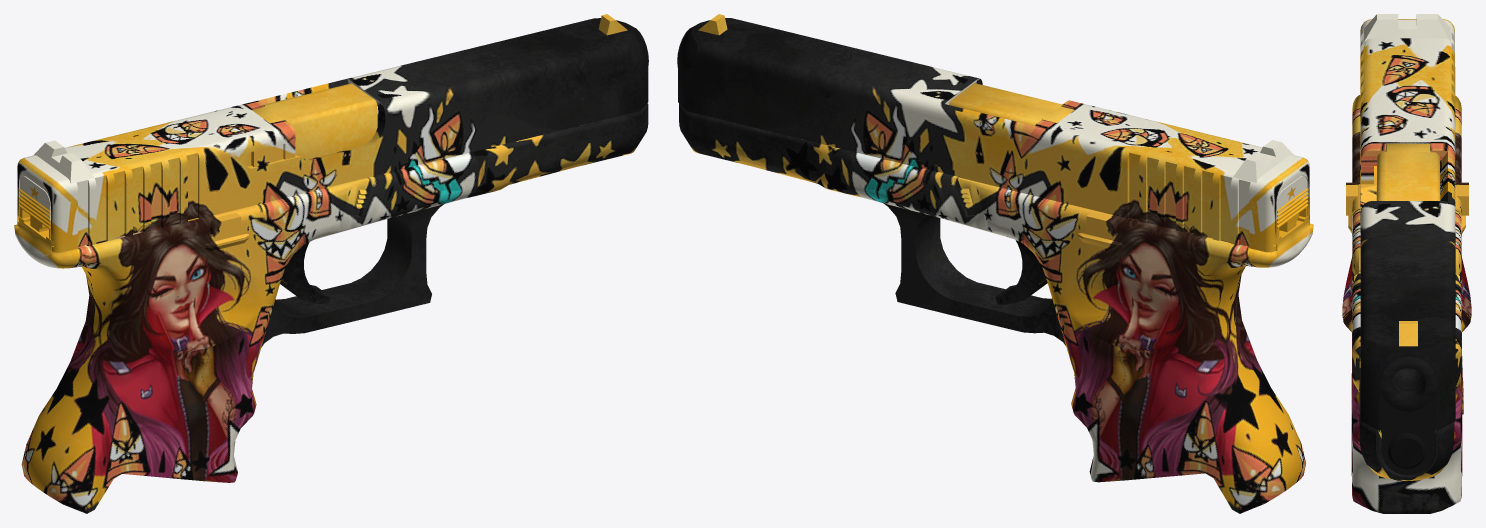
The model's file is w_combatpistol_warmaiden.glb.
3 renders of one model, left to right at view 1: azimuth 30°, elevation 25°; view 2: azimuth 150°, elevation 25°; view 3: azimuth 270°, elevation 25°, orthographic. The views are drawn at different scales.
Parts seen in each view (by area): view 1: Gun_Root; view 2: Gun_Root; view 3: Gun_Root.
Boxes of the visible parts, x1,y1,x2,y2 form: Gun_Root: (14,14,648,513); Gun_Root: (677,14,1313,513); Gun_Root: (1342,14,1471,513).
Size of the model in its own units: 0.1917 by 0.1071 by 0.0307.
Materials: 1 (1 with a texture image).
